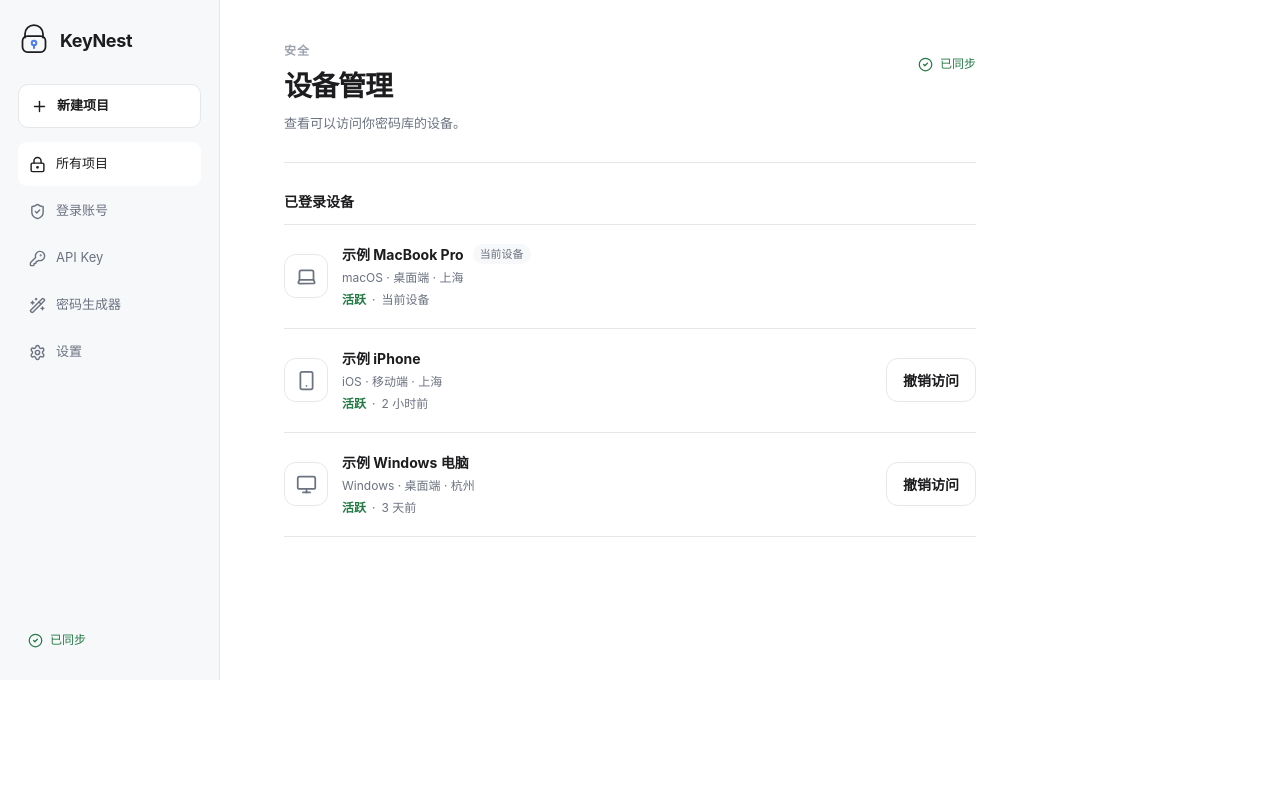
Test case: requires confirmation before revoking a device
Expected: the element showing "示例 iPhone iOS · 移动端 · 上海 活跃 · 2 小时前 撤销访问" is shown, [284,328,976,432]
Click the button "撤销访问" in the row of "iOS · 移动端 · 上海". click: [931, 380]
box: [886,358,976,402]
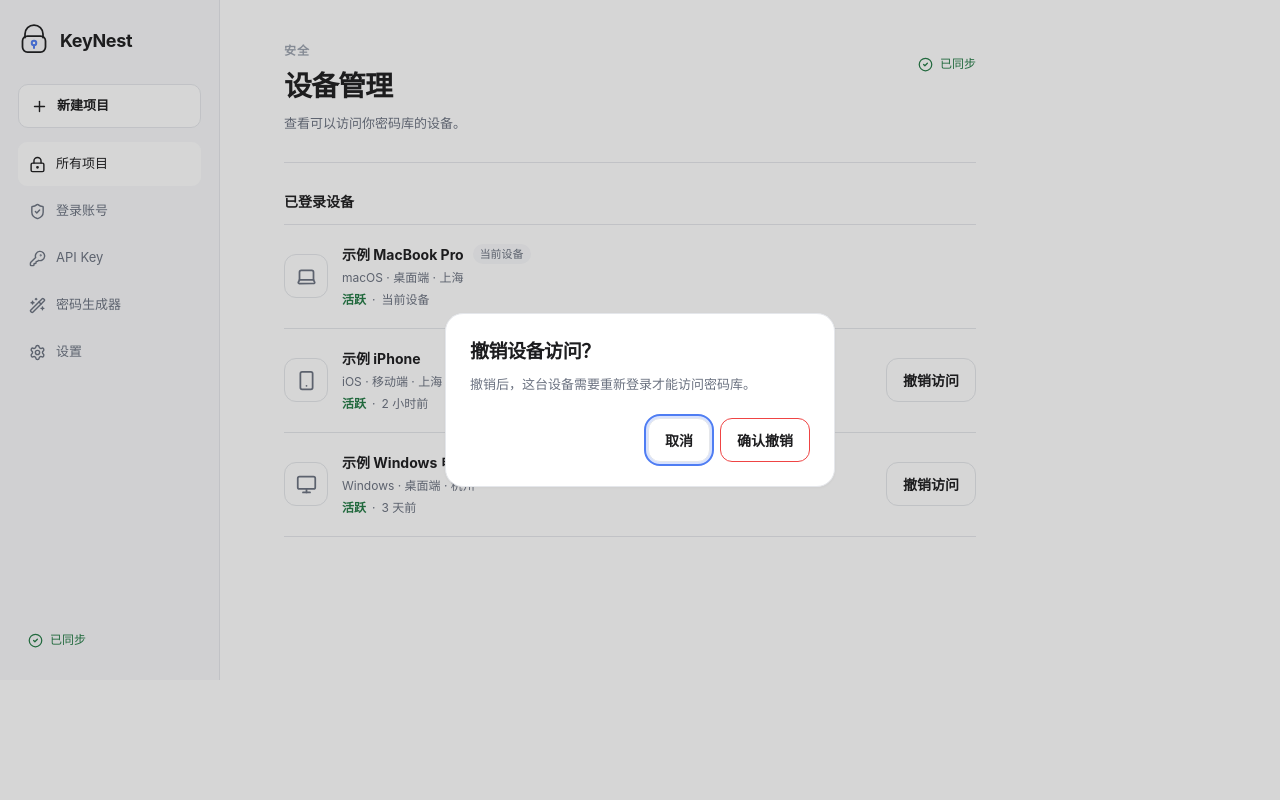
Now the dialog shows "撤销设备访问？", box [470,340,600,363]
Click the button "取消". click: [679, 440]
box: [648,418,710,462]
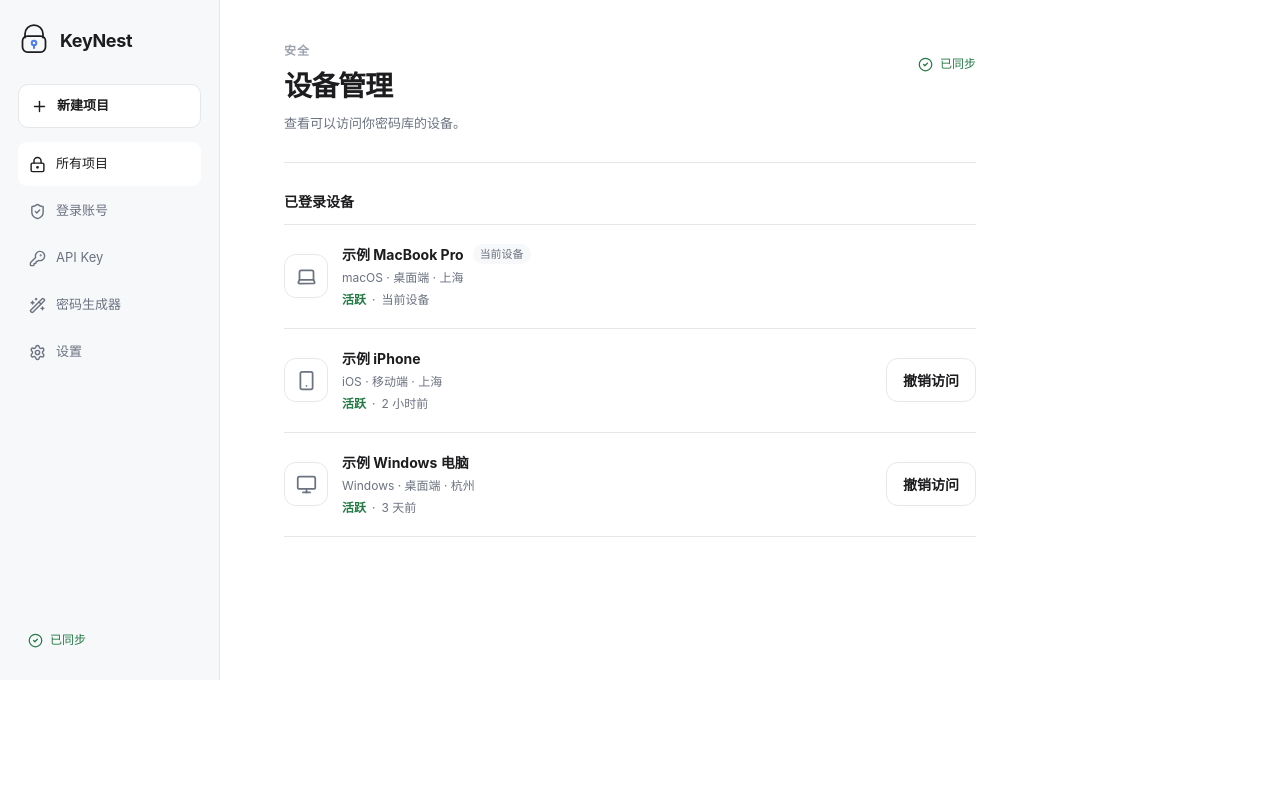
Expected: the element showing "示例 iPhone iOS · 移动端 · 上海 活跃 · 2 小时前 撤销访问" is shown, [284,328,976,432]
Click the button "撤销访问" in the row of "iOS · 移动端 · 上海". click: [931, 380]
box: [886,358,976,402]
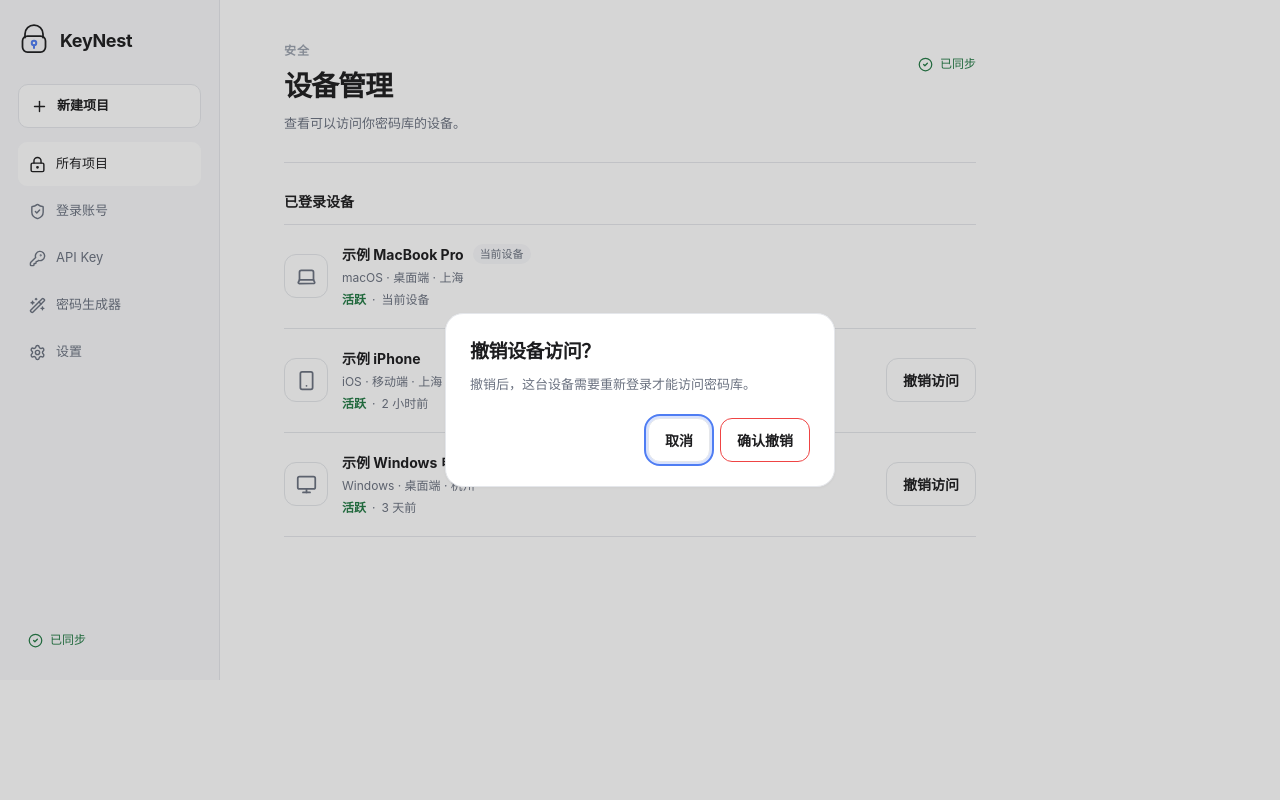
Click the button "确认撤销". click: [765, 440]
box: [720,418,810,462]
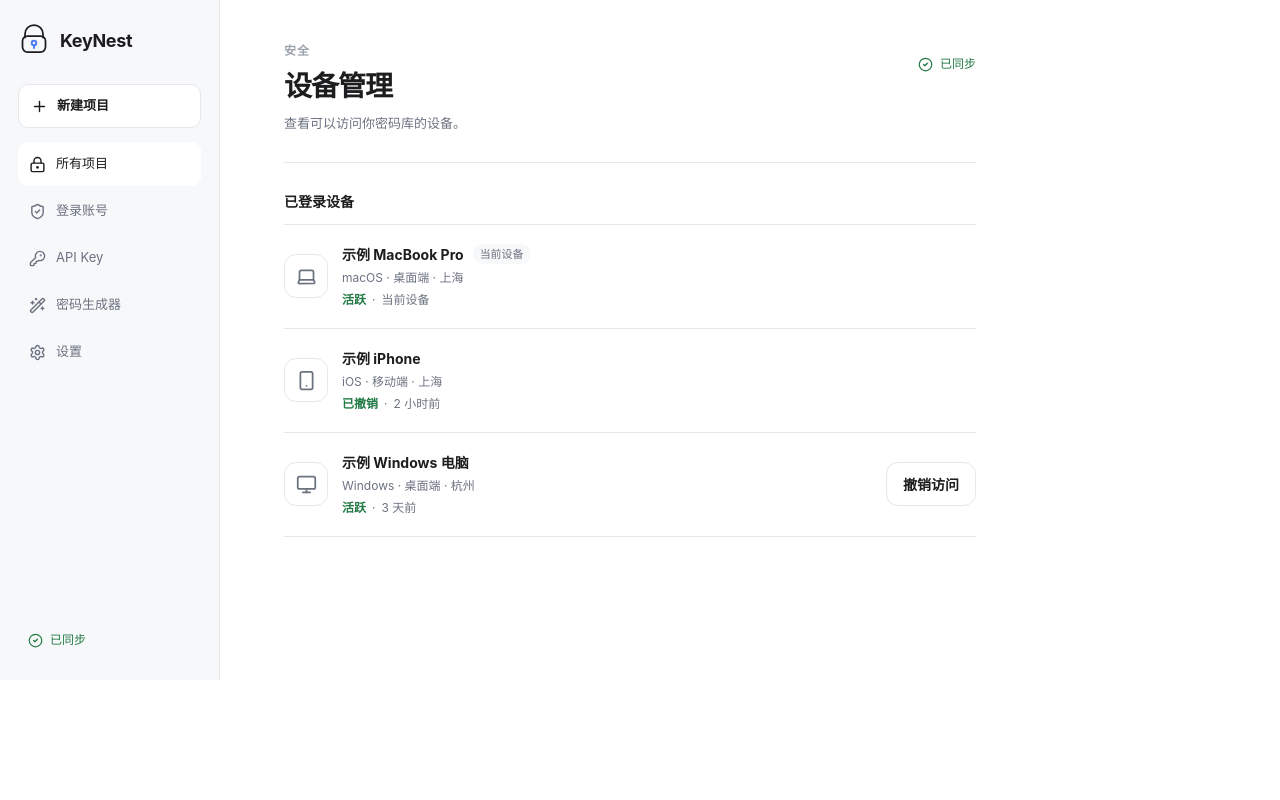
Now the element showing "示例 iPhone iOS · 移动端 · 上海 已撤销 · 2 小时前" is shown, box [284,328,976,432]
